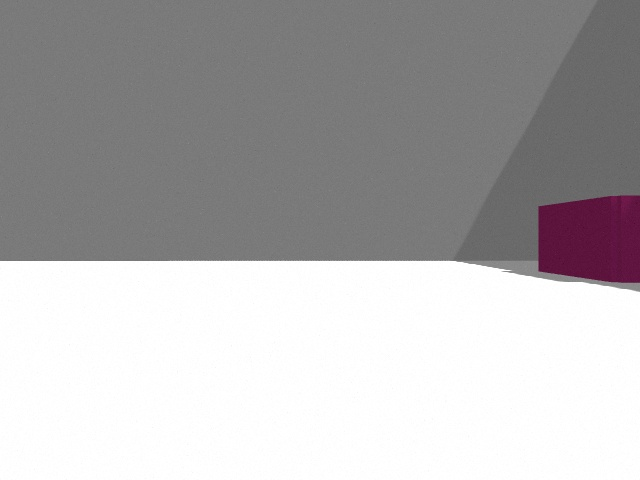red_drop_zone: (538, 195, 640, 283)
